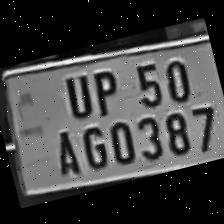0: (154, 50, 196, 105), (100, 114, 136, 167)
3: (126, 108, 166, 164)
5: (124, 54, 166, 108)
6: (72, 118, 112, 172)
7: (182, 97, 224, 154)
8: (154, 104, 194, 160)
A: (42, 124, 82, 180)
P: (82, 60, 126, 116)
U: (55, 65, 96, 122)
